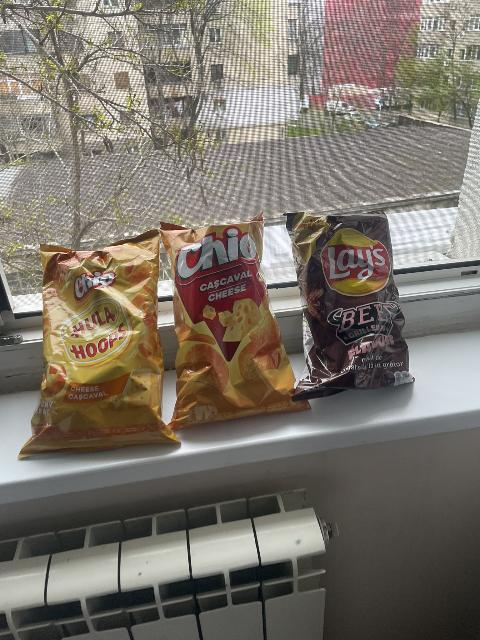Chio Cascaval 125g: (166, 213, 310, 427)
Chio Hula Hoops Cheese 70g: (16, 231, 178, 454)
Lays Beef Grilled Ribs 125g: (288, 213, 409, 396)
